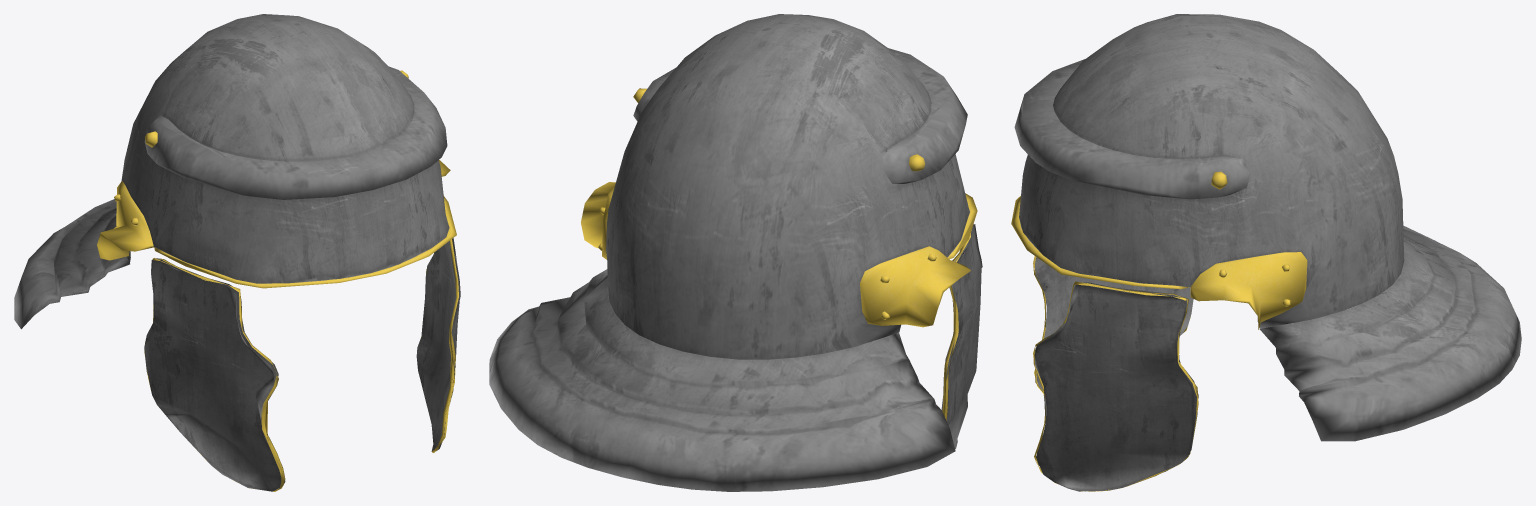
The model's file is galea_killband.glb.
3 renders of one model, left to right at view 1: azimuth 30°, elevation 25°; view 2: azimuth 150°, elevation 25°; view 3: azimuth 270°, elevation 25°, orthographic. The views are drawn at different scales.
Parts seen in each view (by area): view 1: defaultMaterial; view 2: defaultMaterial; view 3: defaultMaterial.
Part boxes in pixels (bbox=[...]): defaultMaterial: bbox=[14, 14, 460, 491]; defaultMaterial: bbox=[489, 14, 982, 491]; defaultMaterial: bbox=[1011, 14, 1521, 491].
Size of the model in its own units: 1.99 by 1.8 by 2.
Materials: 3 (3 with a texture image).
